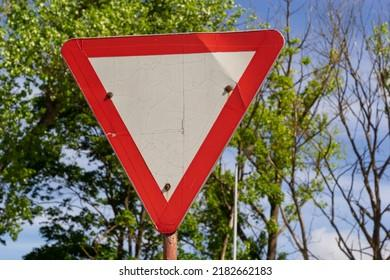Give Way: (58, 28, 290, 241)
